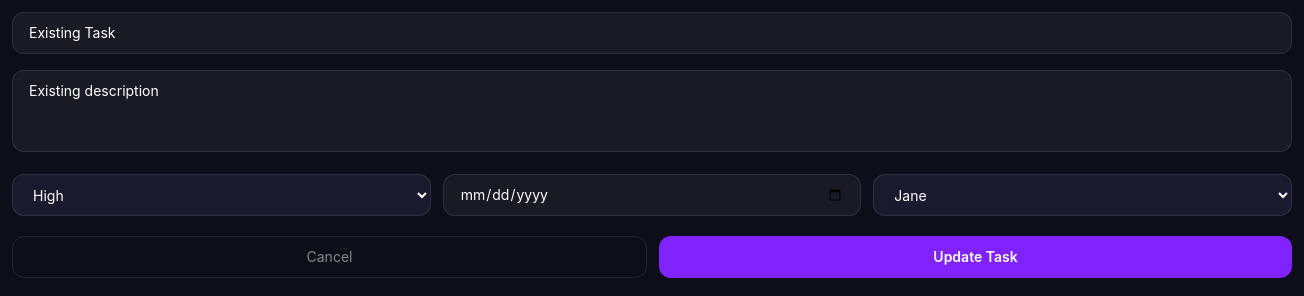
Test: TaskForm › cancels editing and resets the form
This screenshot has width=1304, height=296.
Expected: the field with placeholder "Task title" holds "Existing Task", [12, 12, 1292, 54]
Click the button "Cancel" at (330, 257), box [12, 236, 647, 278]
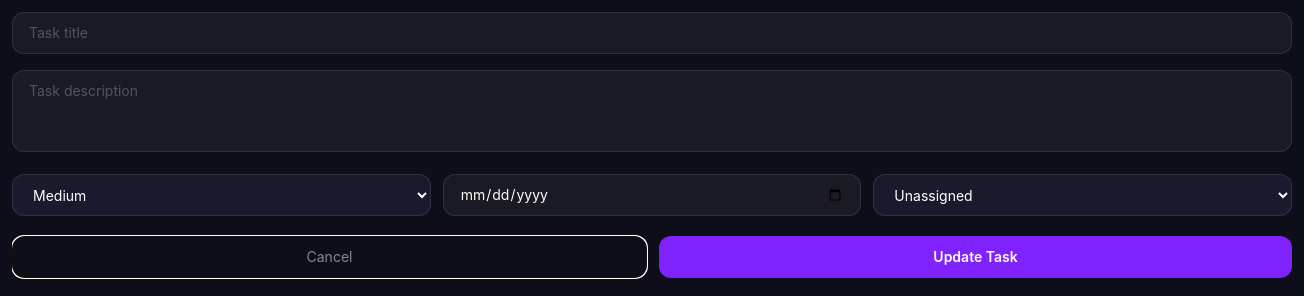
Now the field with placeholder "Task title" is empty, box [12, 12, 1292, 54]
